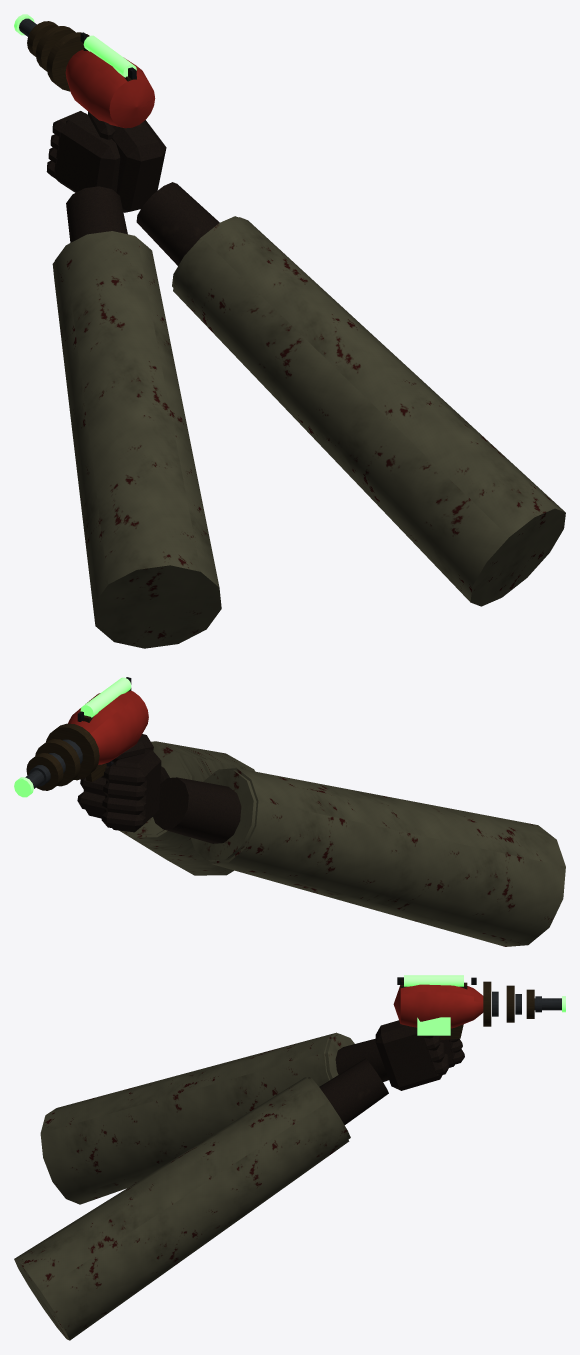
File: raygun.gltf
The picture shows the model from 3 angles, top to bottom: view 1: azimuth 30°, elevation 25°; view 2: azimuth 150°, elevation 25°; view 3: azimuth 270°, elevation 25°; orthographic projection. The views are drawn at different scales.
Parts seen in each view (by area): view 1: Body, ArmL; view 2: ArmL, Body; view 3: Body, ArmL, Mag.
Part boxes in pixels (bbox=[...]): Body: bbox=[14, 14, 565, 606]; ArmL: bbox=[46, 111, 221, 648]; ArmL: bbox=[101, 749, 565, 946]; Body: bbox=[14, 677, 255, 875]; Body: bbox=[14, 975, 565, 1340]; ArmL: bbox=[40, 1032, 464, 1204]; Mag: bbox=[417, 1017, 450, 1035].
Size of the model in its own units: 0.5924 by 0.5096 by 0.8272.
8 materials, 7 textured.
